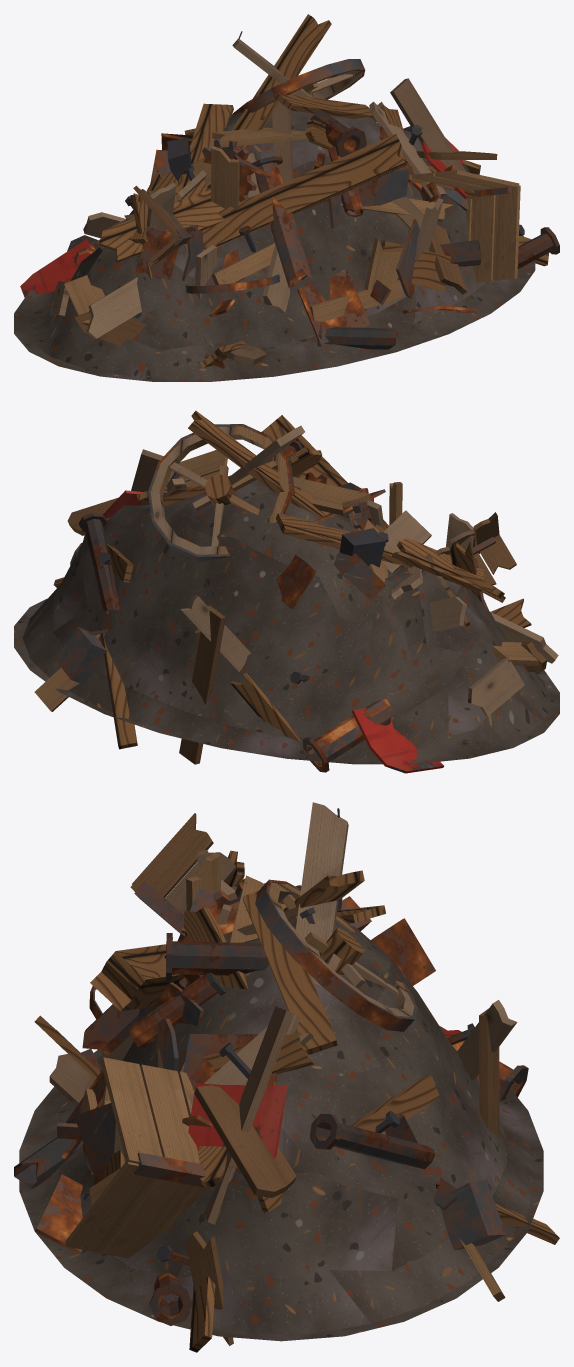
Rendered from Scrap_Heap_Medium.glb.
3 renders of one model, top to bottom at view 1: azimuth 30°, elevation 25°; view 2: azimuth 150°, elevation 25°; view 3: azimuth 270°, elevation 25°, orthographic. The views are drawn at different scales.
Visible parts, largest first — view 1: Scrap_Heap_Medium; view 2: Scrap_Heap_Medium; view 3: Scrap_Heap_Medium.
Boxes of the visible parts, x1,y1,x2,y2 form: Scrap_Heap_Medium: (14,14,559,381); Scrap_Heap_Medium: (14,410,559,773); Scrap_Heap_Medium: (14,802,559,1352).
Size of the model in its own units: 3.03 by 1.68 by 2.04.
Materials: 8 (8 with a texture image).
